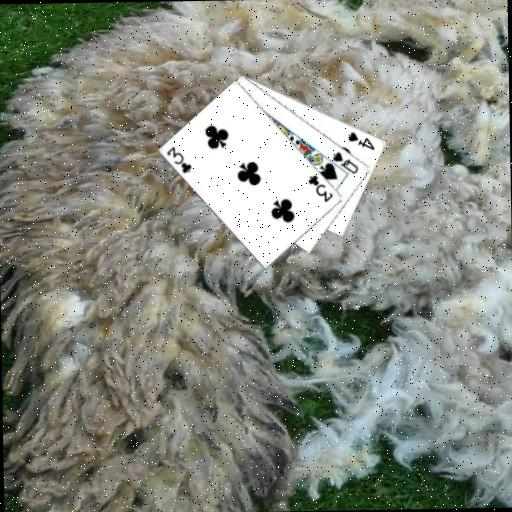3C: (305, 172, 336, 205), (164, 144, 194, 176)
4S: (345, 128, 377, 152)
QS: (330, 148, 360, 176)
